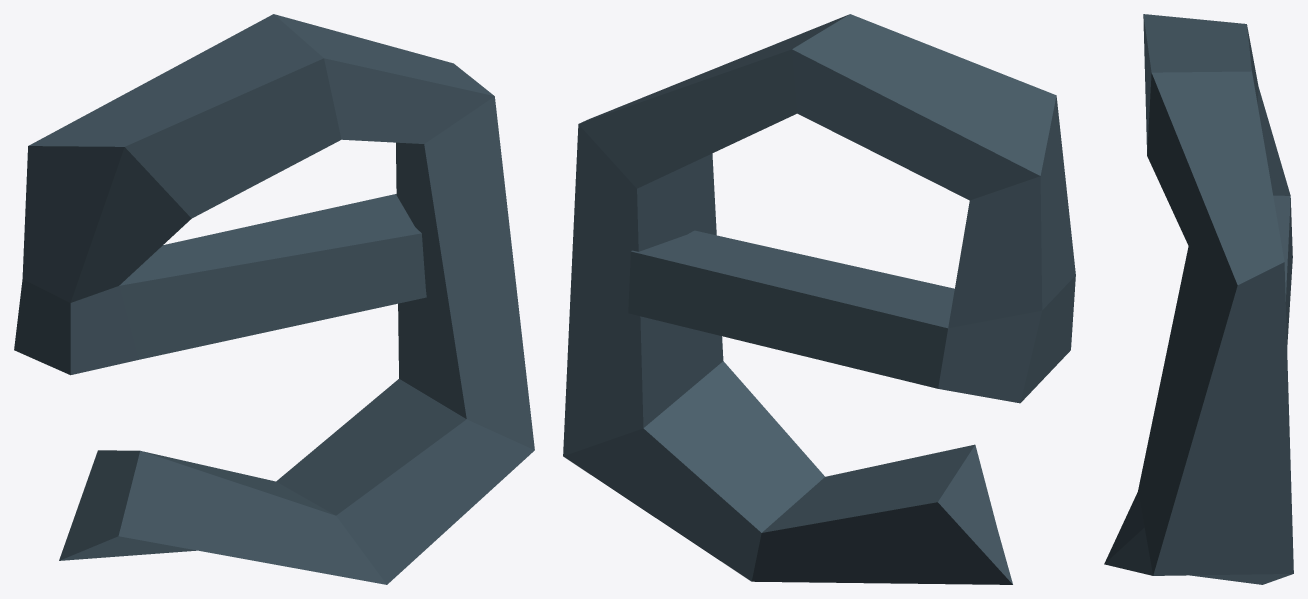
File: lowercase-j.glb
3 renders of one model, left to right at view 1: azimuth 30°, elevation 25°; view 2: azimuth 150°, elevation 25°; view 3: azimuth 270°, elevation 25°, orthographic. The views are drawn at different scales.
Bounding box in the file's own units: 0.2039 × 0.2269 × 0.0784.
